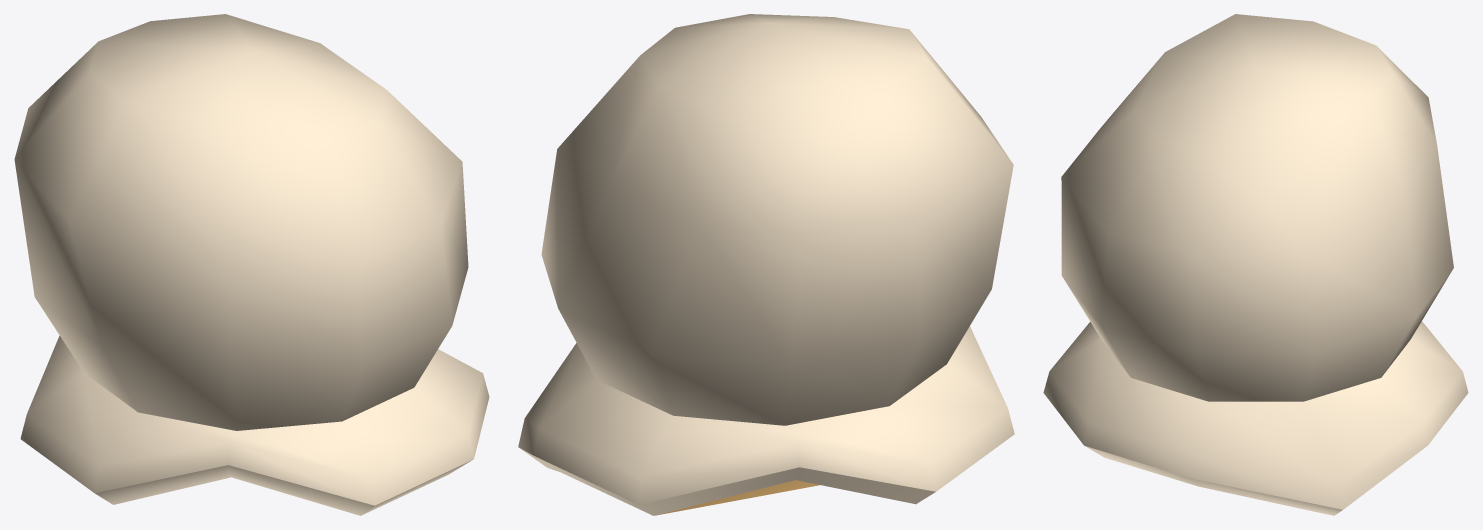
File: popcorn piece.FBX
3 renders of one model, left to right at view 1: azimuth 30°, elevation 25°; view 2: azimuth 150°, elevation 25°; view 3: azimuth 270°, elevation 25°, orthographic. The views are drawn at different scales.
Parts seen in each view (by area): view 1: Sphere001; view 2: Sphere001; view 3: Sphere001.
Boxes of the visible parts, x1=… form: Sphere001: x1=14, y1=14, x2=489, y2=515; Sphere001: x1=518, y1=14, x2=1014, y2=515; Sphere001: x1=1043, y1=14, x2=1468, y2=515.
Bounding box in the file's own units: 16.47 × 16.49 × 16.79.
1 material, 1 textured.
